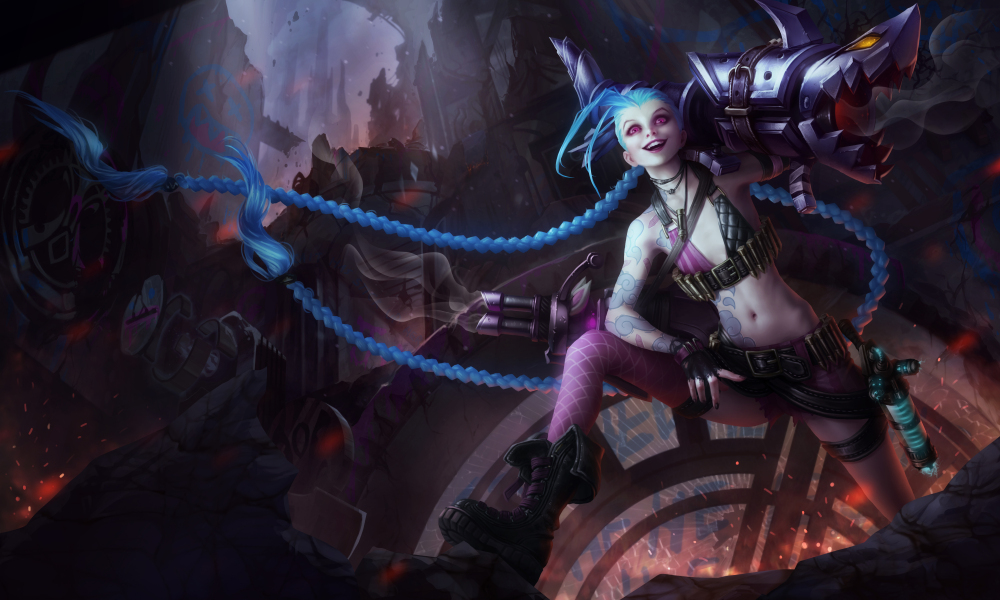face: (554, 74, 701, 192)
